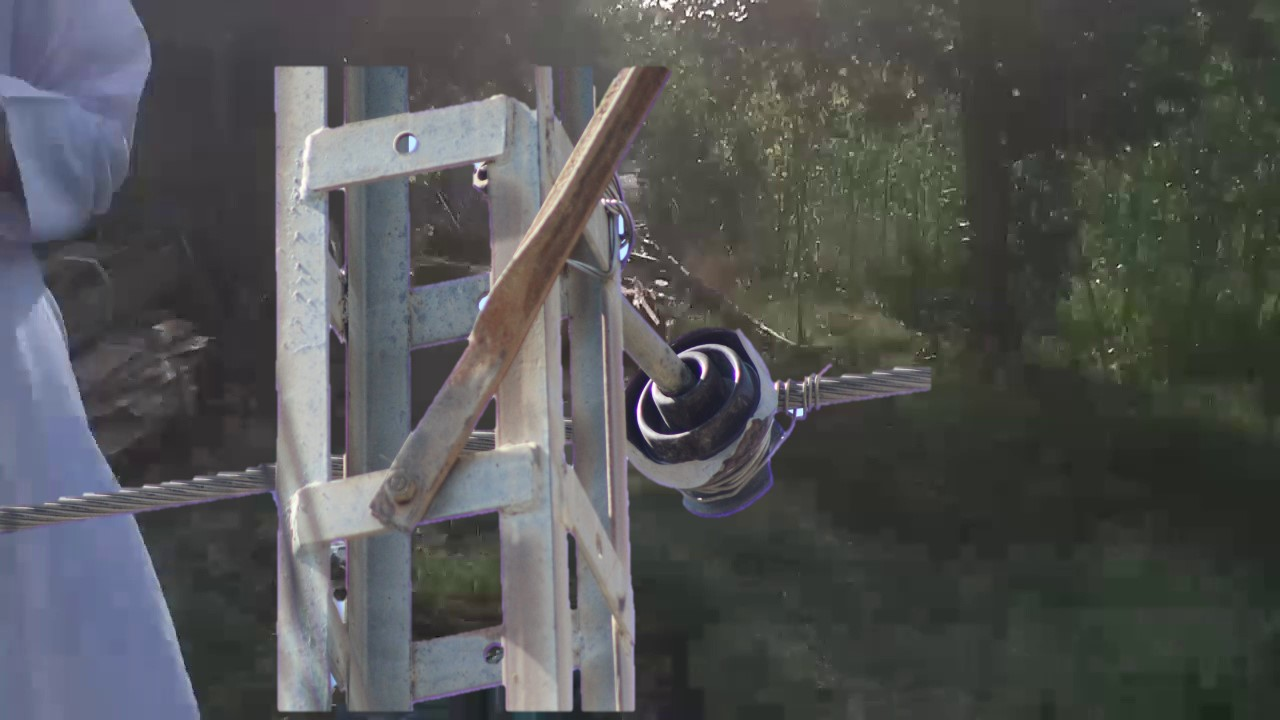defect_pin: (620, 326, 791, 528)
